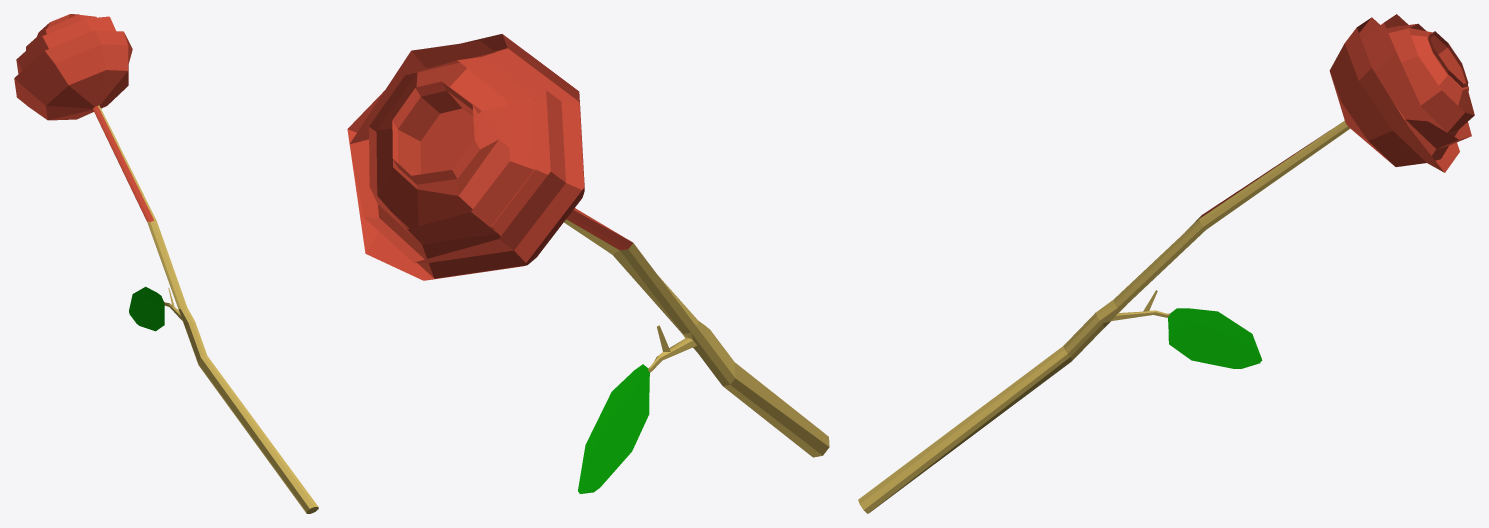
Rendered from RomanticDinnerDate.fbx.
3 views of the same model, side by side, from view 1: azimuth 30°, elevation 25°; view 2: azimuth 150°, elevation 25°; view 3: azimuth 270°, elevation 25° (orthographic). The views are drawn at different scales.
Visible parts, largest first — view 1: Cylinder; view 2: Cylinder; view 3: Cylinder.
Part boxes in pixels (x1,y1,x2,y2): Cylinder: (14, 14, 318, 513); Cylinder: (347, 34, 829, 493); Cylinder: (858, 14, 1474, 513).
Size of the model in its own units: 217 by 627 by 743.
